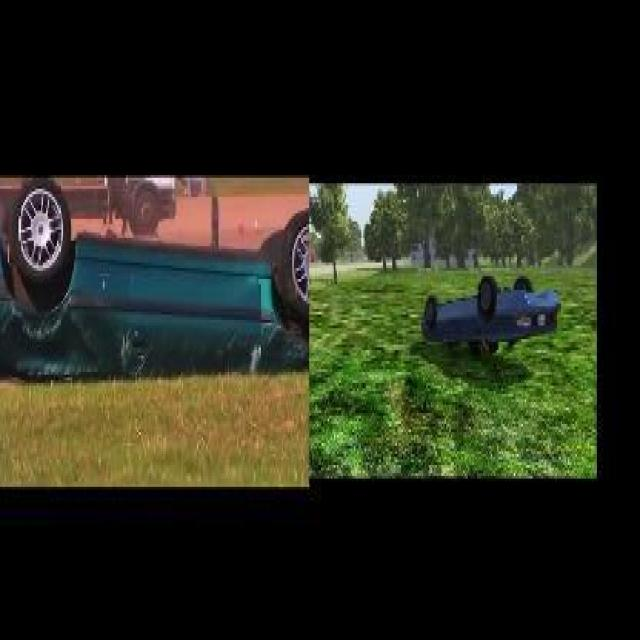accident: (2, 172, 306, 386), (418, 262, 562, 364)
